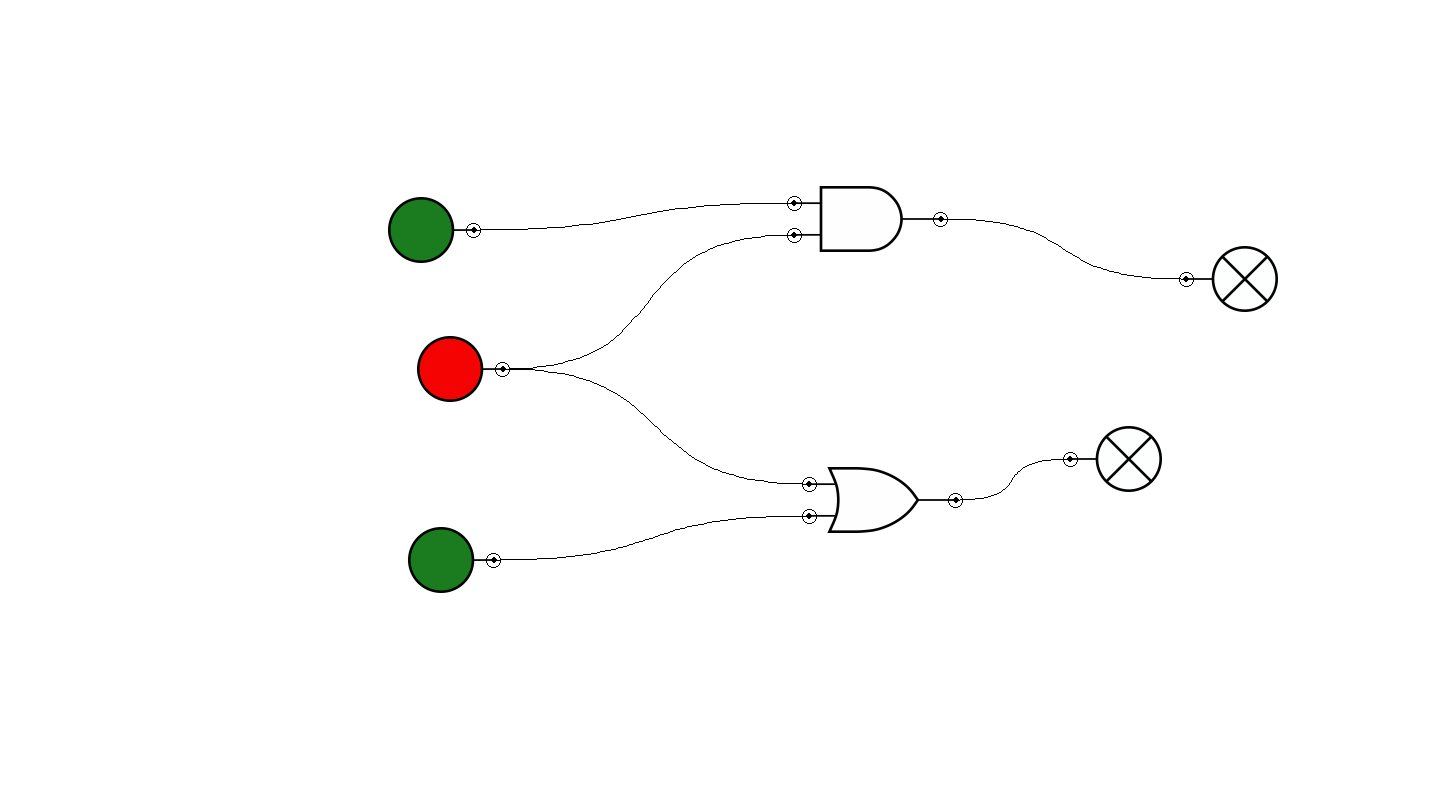and: (787, 186, 948, 252)
bulb: (1063, 426, 1162, 492), (1179, 246, 1278, 312)
or: (802, 467, 963, 533)
switch_False: (417, 336, 510, 402)
switch_True: (408, 527, 501, 593), (388, 197, 481, 263)
